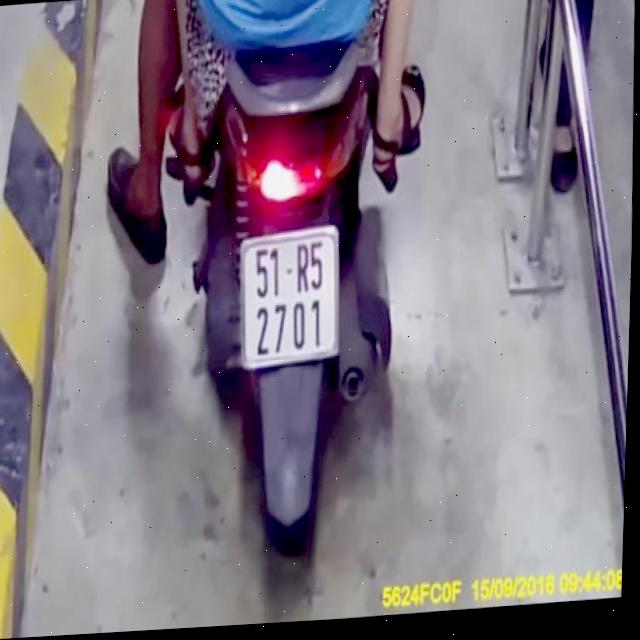motorcycle: (170, 43, 413, 563)
plate: (233, 217, 344, 371)
